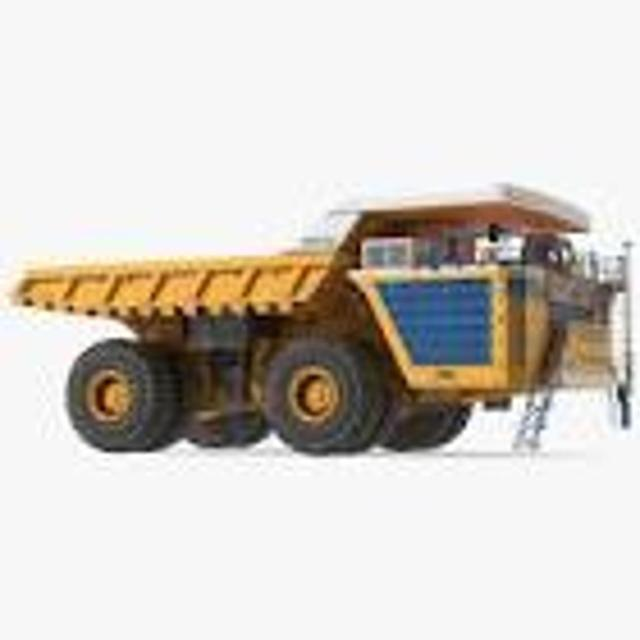dump_truck: (14, 180, 636, 463)
